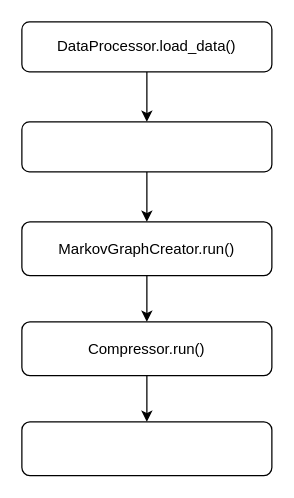
Image size: 294x498. Some labels were removed from this diagram. Each missing label, with the box of its shape:
DataProcessor.visualise(): (21, 421, 272, 476)
ManifoldLandmarker.run(): (21, 121, 272, 172)
